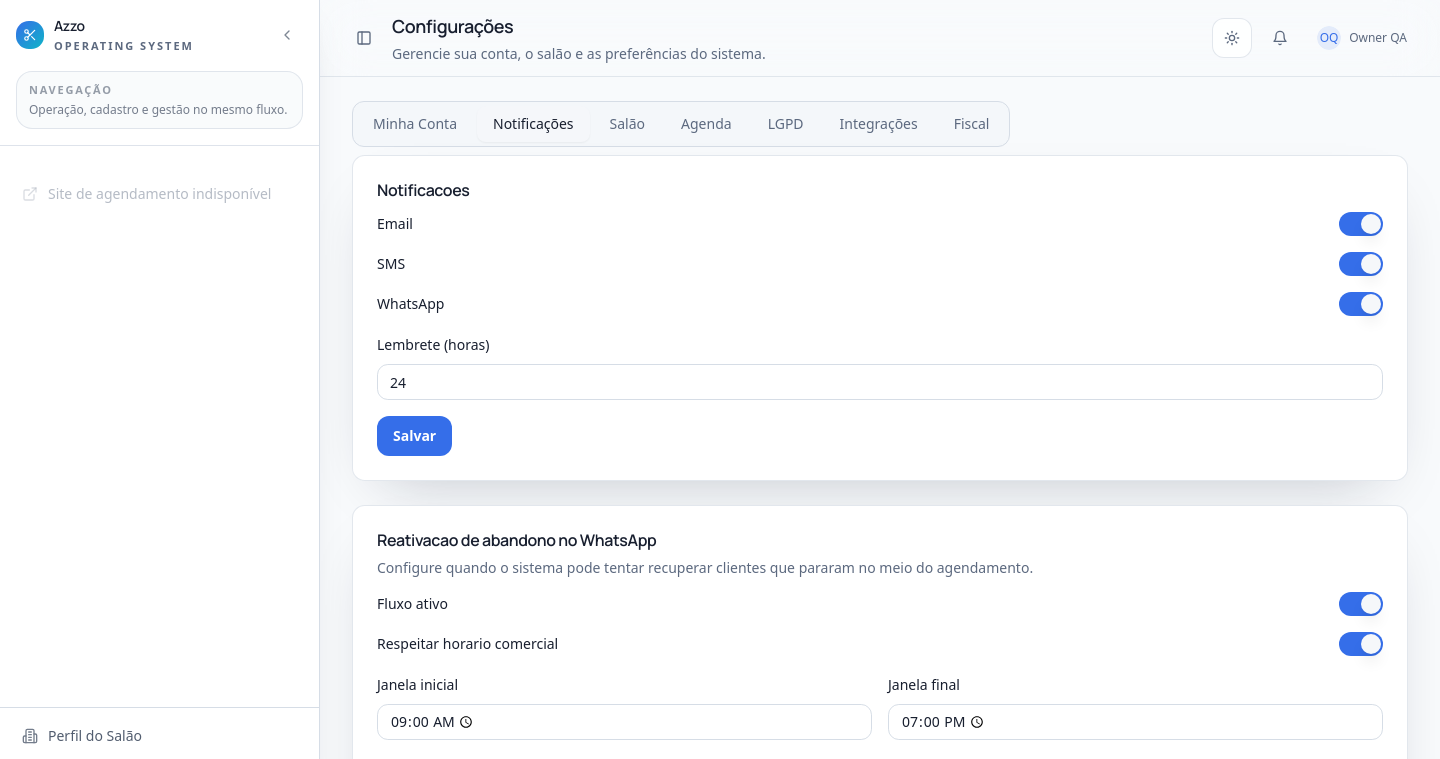
Scenario: Settings › should scroll to the detailed section when opening a domain card
Step 1. Click the tab "Integrações" → (879, 124), box [824,106,934,142]
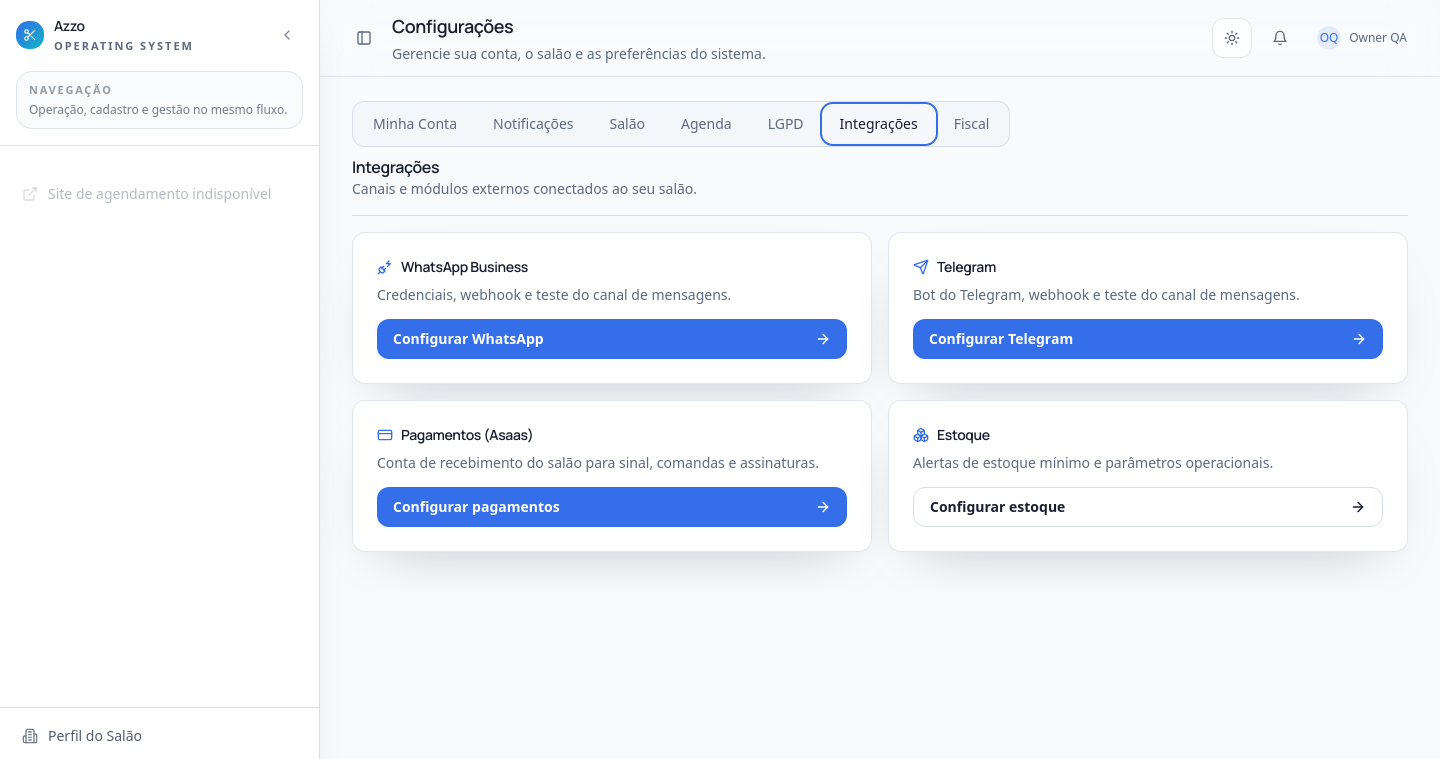
Result: the heading "WhatsApp Business" is shown at [377,257,528,276]
Result: the link "Configurar WhatsApp" is shown at [377,319,847,359]
